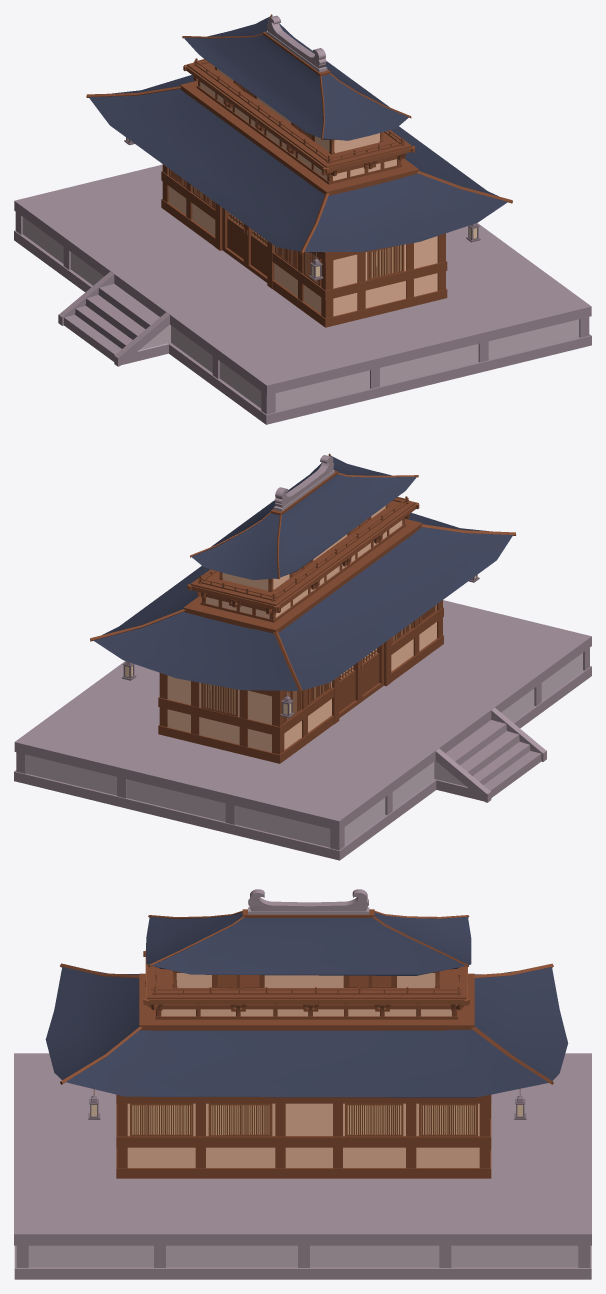
File: houme06_1.fbx
The picture shows the model from 3 angles, top to bottom: view 1: azimuth 30°, elevation 25°; view 2: azimuth 150°, elevation 25°; view 3: azimuth 270°, elevation 25°; orthographic projection. The views are drawn at different scales.
Visible parts, largest first — view 1: foundation_6_1_1, houme6_1, on_the_roof_6_1_1; view 2: foundation_6_1_1, houme6_1, on_the_roof_6_1_1; view 3: houme6_1, foundation_6_1_1, on_the_roof_6_1_1.
Boxes of the visible parts, box(x1,y1,x2,y2) form: foundation_6_1_1: box(14, 164, 591, 424); houme6_1: box(86, 14, 512, 327); on_the_roof_6_1_1: box(262, 15, 330, 75); foundation_6_1_1: box(14, 600, 591, 860); houme6_1: box(90, 453, 515, 763); on_the_roof_6_1_1: box(270, 455, 338, 514); houme6_1: box(45, 911, 568, 1178); foundation_6_1_1: box(14, 1053, 591, 1279); on_the_roof_6_1_1: box(242, 889, 374, 917).
Bounding box in the file's own units: 2386 × 1562 × 2767.
